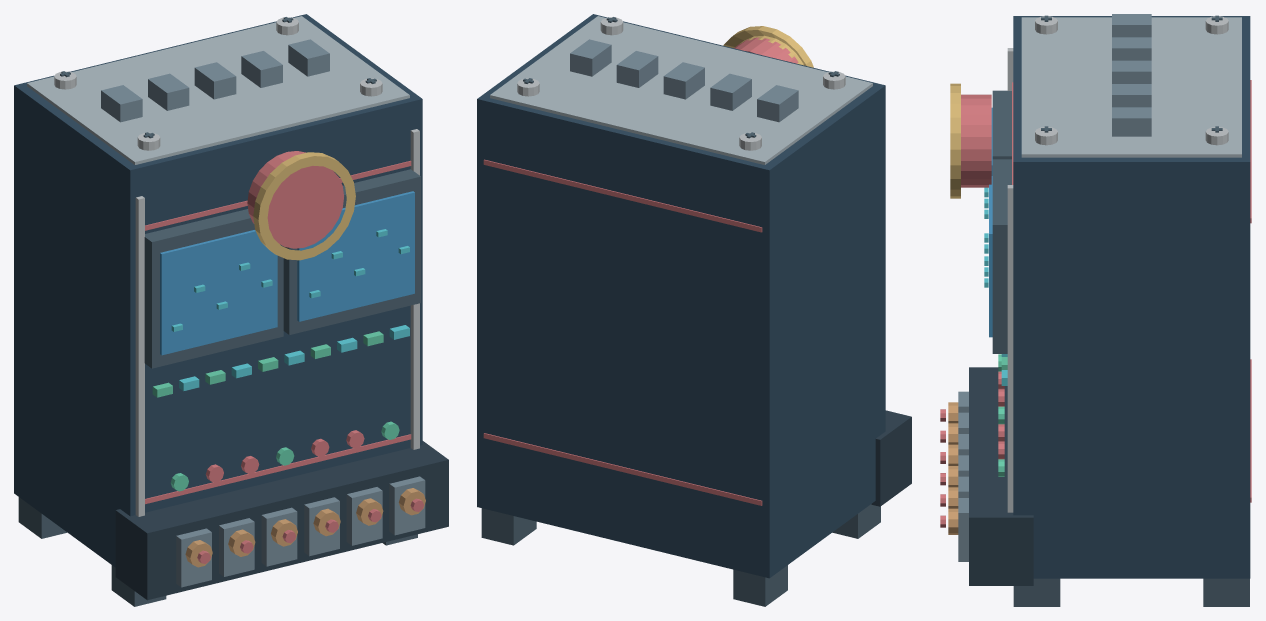
File: 53_L76_ElectroplatingEmergencySafetyStation.glb
3 views of the same model, side by side, from view 1: azimuth 30°, elevation 25°; view 2: azimuth 150°, elevation 25°; view 3: azimuth 270°, elevation 25° (orthographic). The views are drawn at different scales.
Parts seen in each view (by area): view 1: ElectroplatingEmergencySafetyStation_Node_0000, ElectroplatingEmergencySafetyStation_Node_0007, ElectroplatingEmergencySafetyStation_Node_0049, ElectroplatingEmergencySafetyStation_Node_0025, ElectroplatingEmergencySafetyStation_Node_0032, ElectroplatingEmergencySafetyStation_Node_0024, ElectroplatingEmergencySafetyStation_Node_0083, ElectroplatingEmergencySafetyStation_Node_0031, ElectroplatingEmergencySafetyStation_Node_0084, ElectroplatingEmergencySafetyStation_Node_0005, ElectroplatingEmergencySafetyStation_Node_0006, ElectroplatingEmergencySafetyStation_Node_0021 (+14 smaller); view 2: ElectroplatingEmergencySafetyStation_Node_0000, ElectroplatingEmergencySafetyStation_Node_0007, ElectroplatingEmergencySafetyStation_Node_0049, ElectroplatingEmergencySafetyStation_Node_0022, ElectroplatingEmergencySafetyStation_Node_0020, ElectroplatingEmergencySafetyStation_Node_0045, ElectroplatingEmergencySafetyStation_Node_0047, ElectroplatingEmergencySafetyStation_Node_0084, ElectroplatingEmergencySafetyStation_Node_0081, ElectroplatingEmergencySafetyStation_Node_0082, ElectroplatingEmergencySafetyStation_Node_0078, ElectroplatingEmergencySafetyStation_Node_0079 (+3 smaller); view 3: ElectroplatingEmergencySafetyStation_Node_0000, ElectroplatingEmergencySafetyStation_Node_0007, ElectroplatingEmergencySafetyStation_Node_0049, ElectroplatingEmergencySafetyStation_Node_0031, ElectroplatingEmergencySafetyStation_Node_0083, ElectroplatingEmergencySafetyStation_Node_0006, ElectroplatingEmergencySafetyStation_Node_0024, ElectroplatingEmergencySafetyStation_Node_0047, ElectroplatingEmergencySafetyStation_Node_0084, ElectroplatingEmergencySafetyStation_Node_0048, ElectroplatingEmergencySafetyStation_Node_0082, ElectroplatingEmergencySafetyStation_Node_0078 (+5 smaller).
Part boxes in pixels (x1=…): ElectroplatingEmergencySafetyStation_Node_0000: x1=14, y1=14, x2=422, y2=567; ElectroplatingEmergencySafetyStation_Node_0007: x1=27, y1=16, x2=409, y2=164; ElectroplatingEmergencySafetyStation_Node_0049: x1=115, y1=441, x2=448, y2=600; ElectroplatingEmergencySafetyStation_Node_0025: x1=160, y1=230, x2=277, y2=355; ElectroplatingEmergencySafetyStation_Node_0032: x1=297, y1=191, x2=414, y2=321; ElectroplatingEmergencySafetyStation_Node_0024: x1=144, y1=209, x2=283, y2=368; ElectroplatingEmergencySafetyStation_Node_0083: x1=247, y1=151, x2=343, y2=248; ElectroplatingEmergencySafetyStation_Node_0031: x1=283, y1=169, x2=420, y2=334; ElectroplatingEmergencySafetyStation_Node_0084: x1=253, y1=152, x2=355, y2=260; ElectroplatingEmergencySafetyStation_Node_0005: x1=135, y1=196, x2=144, y2=516; ElectroplatingEmergencySafetyStation_Node_0006: x1=410, y1=129, x2=419, y2=449; ElectroplatingEmergencySafetyStation_Node_0021: x1=145, y1=434, x2=411, y2=504; ElectroplatingEmergencySafetyStation_Node_0000: x1=477, y1=14, x2=885, y2=578; ElectroplatingEmergencySafetyStation_Node_0007: x1=490, y1=16, x2=872, y2=164; ElectroplatingEmergencySafetyStation_Node_0049: x1=871, y1=410, x2=911, y2=506; ElectroplatingEmergencySafetyStation_Node_0022: x1=483, y1=159, x2=762, y2=232; ElectroplatingEmergencySafetyStation_Node_0020: x1=483, y1=433, x2=762, y2=505; ElectroplatingEmergencySafetyStation_Node_0045: x1=733, y1=565, x2=787, y2=606; ElectroplatingEmergencySafetyStation_Node_0047: x1=481, y1=508, x2=536, y2=545; ElectroplatingEmergencySafetyStation_Node_0084: x1=723, y1=26, x2=813, y2=67; ElectroplatingEmergencySafetyStation_Node_0081: x1=616, y1=51, x2=658, y2=87; ElectroplatingEmergencySafetyStation_Node_0082: x1=570, y1=39, x2=611, y2=76; ElectroplatingEmergencySafetyStation_Node_0078: x1=757, y1=85, x2=798, y2=122; ElectroplatingEmergencySafetyStation_Node_0079: x1=710, y1=73, x2=751, y2=110; ElectroplatingEmergencySafetyStation_Node_0000: x1=1013, y1=16, x2=1250, y2=578; ElectroplatingEmergencySafetyStation_Node_0007: x1=1021, y1=17, x2=1241, y2=157; ElectroplatingEmergencySafetyStation_Node_0049: x1=969, y1=367, x2=1033, y2=585; ElectroplatingEmergencySafetyStation_Node_0031: x1=992, y1=159, x2=1011, y2=353; ElectroplatingEmergencySafetyStation_Node_0083: x1=961, y1=94, x2=991, y2=187; ElectroplatingEmergencySafetyStation_Node_0006: x1=1007, y1=185, x2=1013, y2=512; ElectroplatingEmergencySafetyStation_Node_0024: x1=992, y1=90, x2=1011, y2=159; ElectroplatingEmergencySafetyStation_Node_0047: x1=1203, y1=578, x2=1249, y2=606; ElectroplatingEmergencySafetyStation_Node_0084: x1=950, y1=83, x2=960, y2=198; ElectroplatingEmergencySafetyStation_Node_0048: x1=1013, y1=578, x2=1060, y2=606; ElectroplatingEmergencySafetyStation_Node_0082: x1=1112, y1=107, x2=1151, y2=136; ElectroplatingEmergencySafetyStation_Node_0078: x1=1112, y1=14, x2=1151, y2=37.
Size of the model in its own units: 0.99 by 1.44 by 0.8664.
